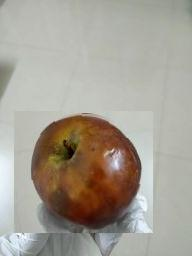Apple Semifresh: (14, 111, 153, 233)
